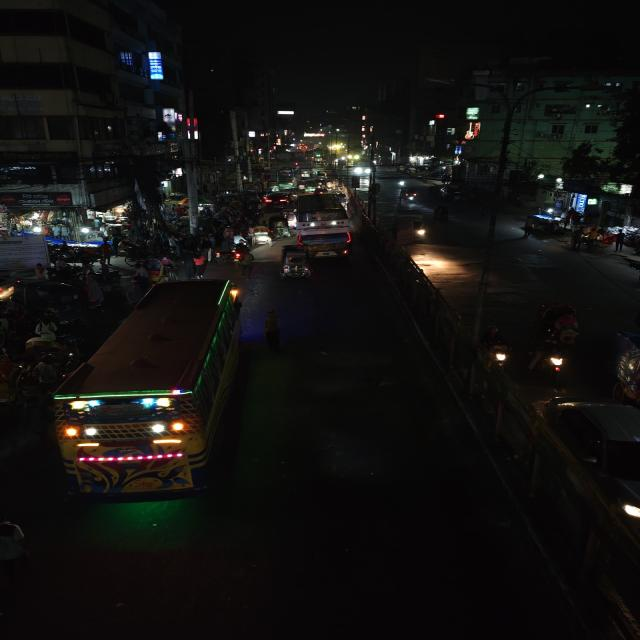bus: (50, 277, 245, 500), (293, 192, 355, 260)
car: (532, 392, 640, 543), (262, 191, 294, 209)
cng: (19, 278, 85, 320), (278, 244, 311, 282), (408, 211, 430, 243), (249, 223, 272, 246), (276, 170, 297, 190), (401, 186, 420, 207), (432, 203, 451, 223), (272, 219, 290, 239), (299, 167, 313, 179)
motorcycle: (480, 323, 518, 373), (230, 238, 252, 266)
pedestrian: (258, 307, 288, 353), (188, 251, 208, 277), (567, 228, 587, 250), (610, 230, 628, 254), (521, 215, 536, 237)
rickshaw: (528, 299, 585, 382), (139, 257, 164, 283)
